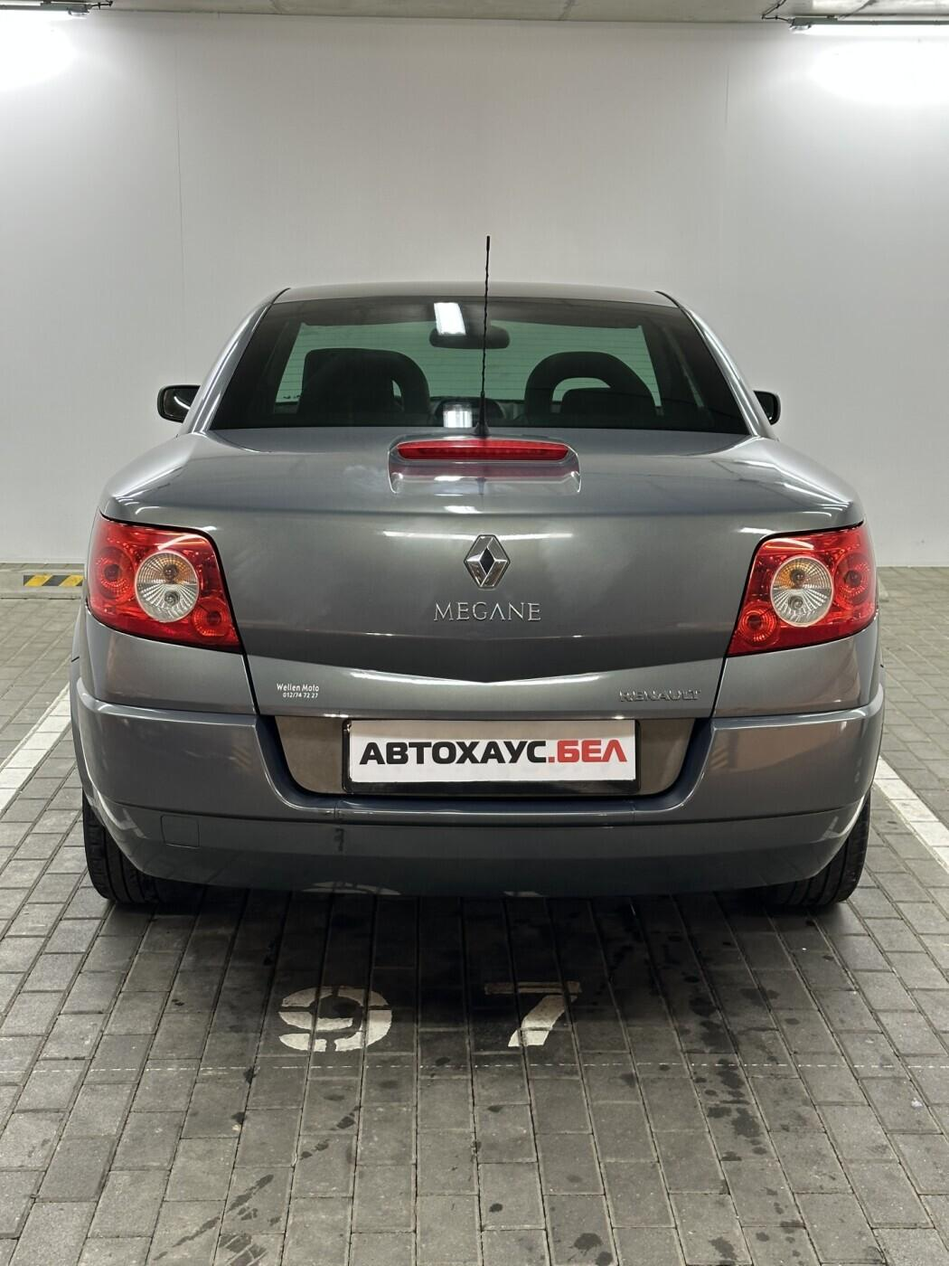Megane_2005-2009: (74, 271, 880, 962)
